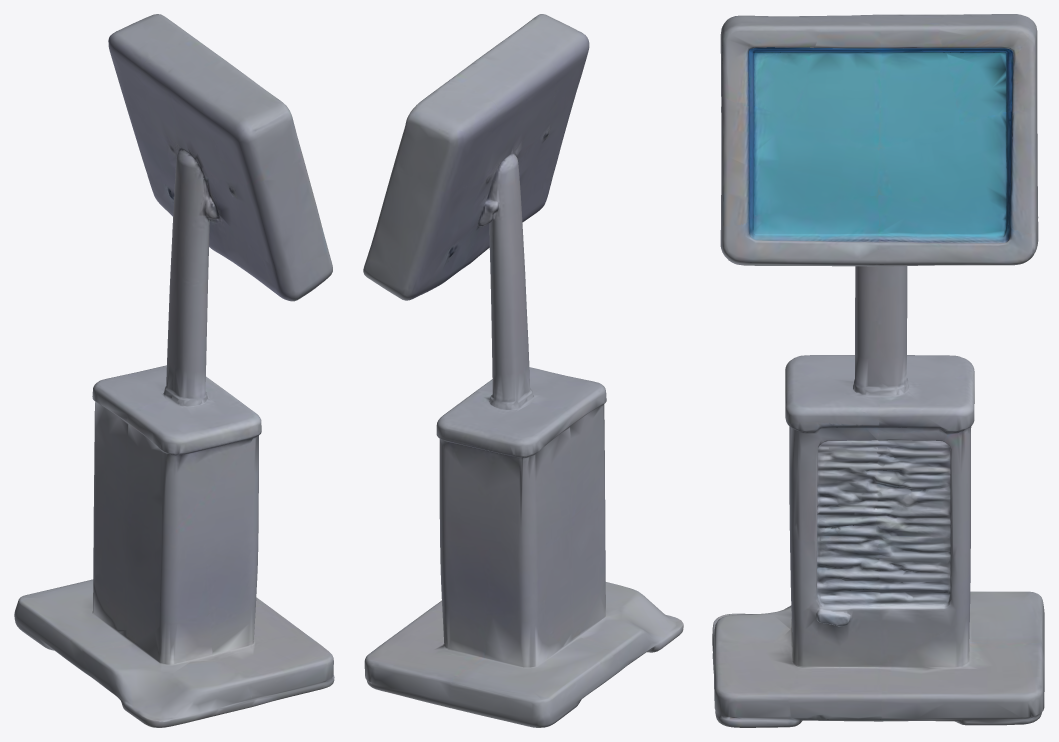
The model's file is adscreen-web.glb.
3 renders of one model, left to right at view 1: azimuth 30°, elevation 25°; view 2: azimuth 150°, elevation 25°; view 3: azimuth 270°, elevation 25°, orthographic. The views are drawn at different scales.
Parts seen in each view (by area): view 1: tripo_node_e66a3fd9-8e8e-4758-9126-ac23f4437bef; view 2: tripo_node_e66a3fd9-8e8e-4758-9126-ac23f4437bef; view 3: tripo_node_e66a3fd9-8e8e-4758-9126-ac23f4437bef.
Boxes of the visible parts, x1=… form: tripo_node_e66a3fd9-8e8e-4758-9126-ac23f4437bef: x1=14, y1=14, x2=334, y2=727; tripo_node_e66a3fd9-8e8e-4758-9126-ac23f4437bef: x1=363, y1=14, x2=683, y2=727; tripo_node_e66a3fd9-8e8e-4758-9126-ac23f4437bef: x1=712, y1=14, x2=1044, y2=727.
Bounding box in the file's own units: 0.3369 × 0.9999 × 0.444.
1 material, 1 textured.
